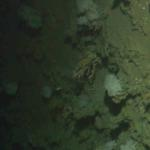alive: (3, 5, 146, 146)
